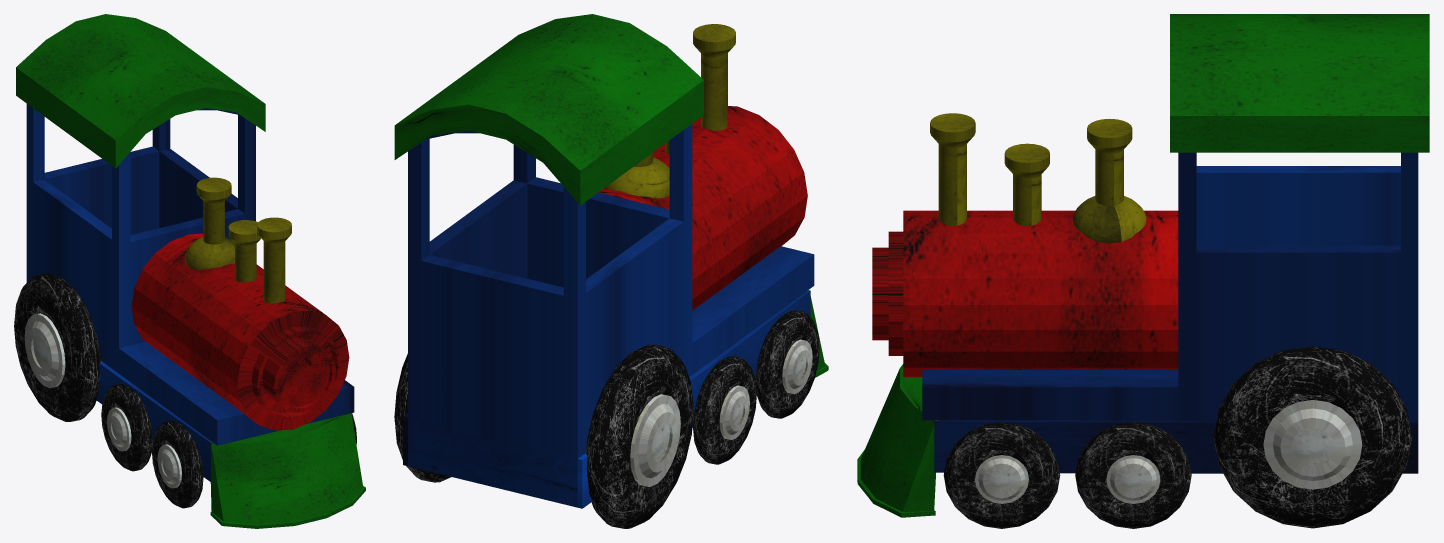
Rendered from TremBrinquedoRE1.fbx.
3 renders of one model, left to right at view 1: azimuth 30°, elevation 25°; view 2: azimuth 150°, elevation 25°; view 3: azimuth 270°, elevation 25°, orthographic. The views are drawn at different scales.
Parts seen in each view (by area): view 1: pCube1, pCylinder1, pCube2, pCube4, pTorus5, pTorus3, pTorus4, pCylinder7, pCylinder13, pCylinder11, pCylinder12, pSphere1 (+2 smaller); view 2: pCube1, pCube2, pCylinder1, pTorus5, pTorus3, pTorus4, pCylinder7, pCylinder13, pSphere1, pCylinder5, pCylinder6, pTorus8; view 3: pCube1, pCylinder1, pCube2, pTorus8, pCube4, pTorus7, pTorus6, pCylinder10, pCylinder13, pCylinder11, pCylinder12, pSphere1 (+2 smaller).
Boxes of the visible parts, x1=… form: pCube1: x1=26, y1=104, x2=354, y2=481; pCylinder1: x1=131, y1=233, x2=349, y2=430; pCube2: x1=16, y1=14, x2=265, y2=168; pCube4: x1=210, y1=413, x2=365, y2=528; pTorus5: x1=14, y1=273, x2=100, y2=421; pTorus3: x1=152, y1=421, x2=203, y2=508; pTorus4: x1=101, y1=383, x2=152, y2=471; pCylinder7: x1=24, y1=313, x2=65, y2=388; pCylinder13: x1=257, y1=217, x2=291, y2=303; pCylinder11: x1=196, y1=177, x2=231, y2=244; pCylinder12: x1=228, y1=220, x2=261, y2=282; pSphere1: x1=185, y1=237, x2=234, y2=269; pCube1: x1=403, y1=124, x2=814, y2=508; pCube2: x1=394, y1=14, x2=703, y2=205; pCylinder1: x1=598, y1=106, x2=807, y2=310; pTorus5: x1=586, y1=344, x2=693, y2=528; pTorus3: x1=755, y1=310, x2=819, y2=418; pTorus4: x1=693, y1=356, x2=756, y2=464; pCylinder7: x1=630, y1=394, x2=680, y2=486; pCylinder13: x1=693, y1=24, x2=735, y2=130; pSphere1: x1=606, y1=157, x2=669, y2=198; pCylinder5: x1=782, y1=339, x2=812, y2=394; pCylinder6: x1=719, y1=385, x2=749, y2=439; pTorus8: x1=394, y1=353, x2=450, y2=482; pCube1: x1=922, y1=152, x2=1418, y2=473; pCylinder1: x1=872, y1=210, x2=1178, y2=377; pCube2: x1=1170, y1=14, x2=1429, y2=152; pTorus8: x1=1213, y1=346, x2=1411, y2=528; pCube4: x1=857, y1=364, x2=938, y2=517; pTorus7: x1=1075, y1=422, x2=1191, y2=528; pTorus6: x1=943, y1=422, x2=1060, y2=528; pCylinder10: x1=1263, y1=400, x2=1362, y2=489; pCylinder13: x1=930, y1=113, x2=975, y2=225; pCylinder11: x1=1087, y1=118, x2=1132, y2=205; pCylinder12: x1=1004, y1=143, x2=1049, y2=225; pSphere1: x1=1072, y1=196, x2=1146, y2=243.
Size of the model in its own units: 4.86 by 8.61 by 9.87.
6 materials, 6 textured.
